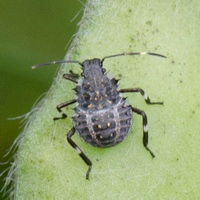insect: (32, 52, 166, 178)
